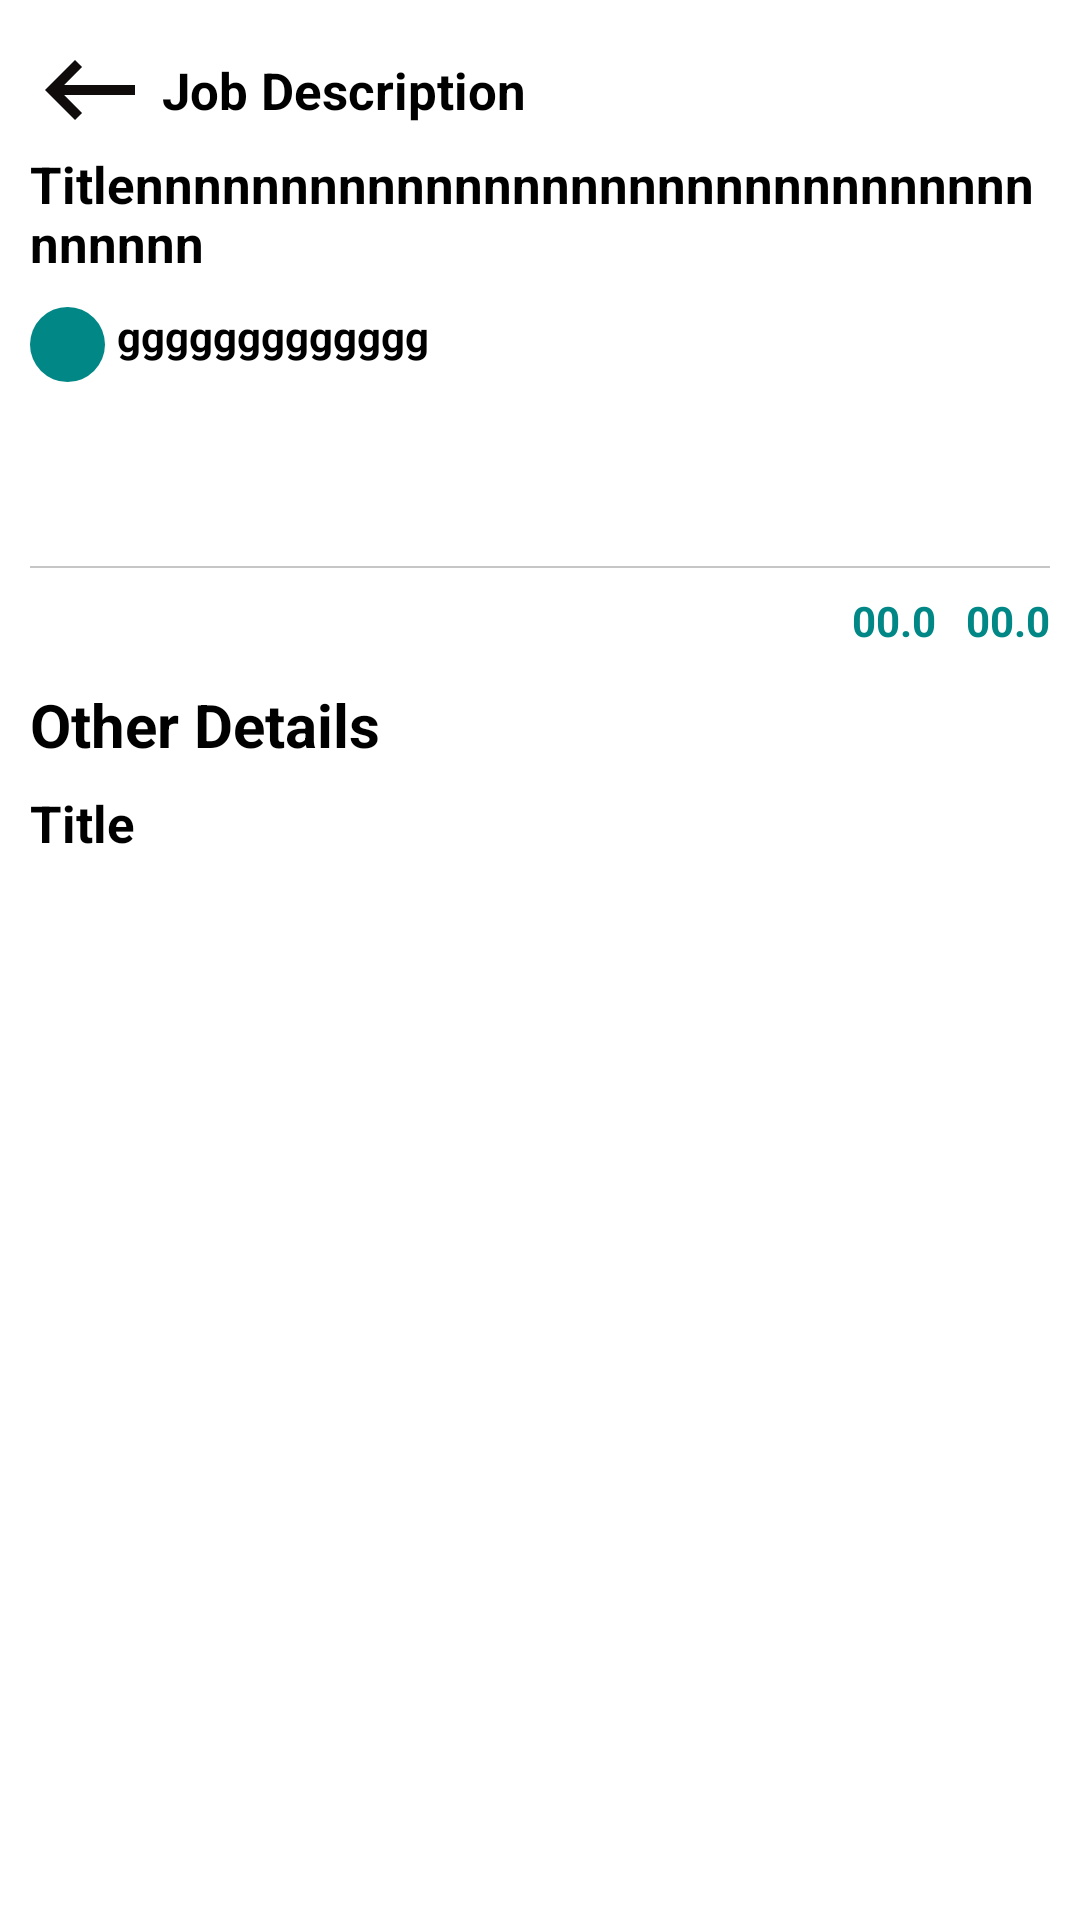

Locate icon controls on the screen. Image size 1080x1920, boxes as box(x1, y1, x2, y2).
keyboard backspace: box(45, 60, 135, 120)
